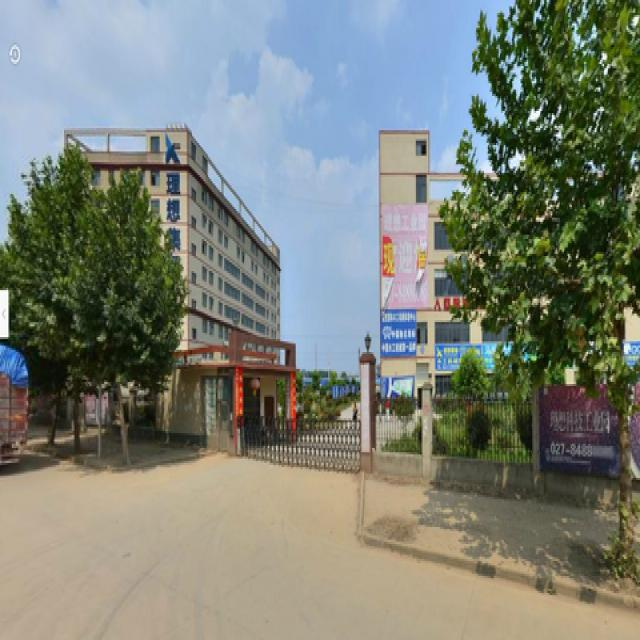meta: (516, 11, 639, 556)
